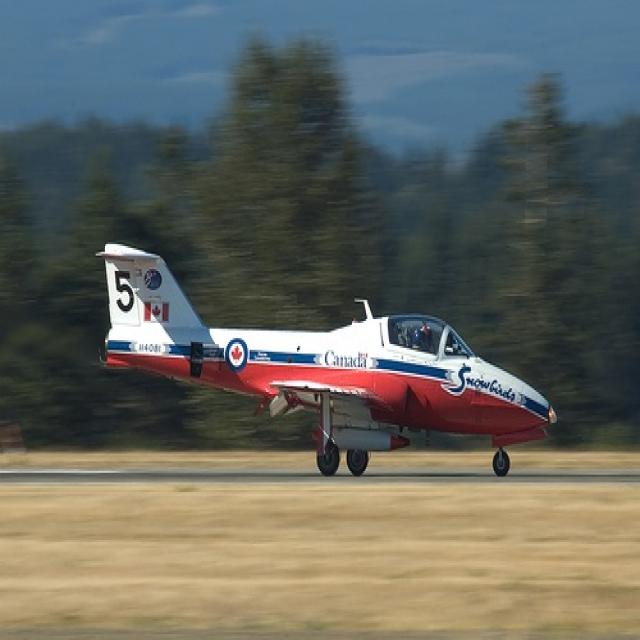aeroplane: (95, 240, 557, 479)
